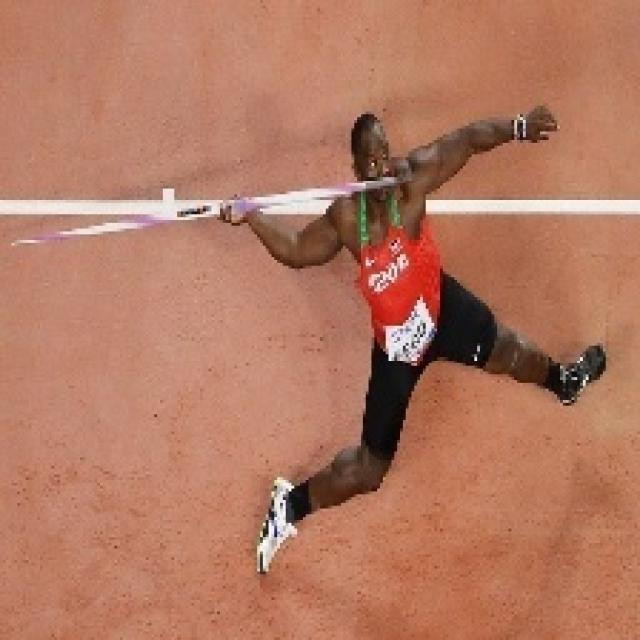javelin: (0, 93, 565, 368)
